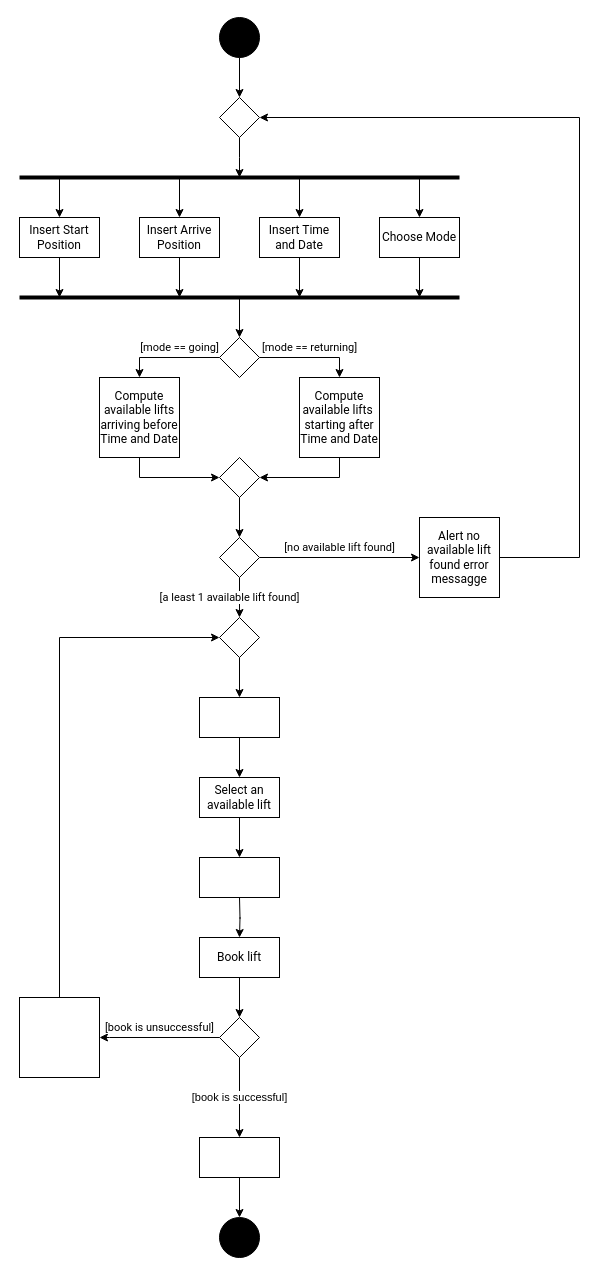
This 605x1275 diagram has some shape labels left out. The shapes that lost their labels are listed below. From the top down, each one's centre as x and y in pixels, then its label:
At pixel 239 717: "Display available lifts".
At pixel 239 877: "Show lift detail".
At pixel 59 1037: "Alert booking error message".
At pixel 239 1157: "Alert booking successful".
